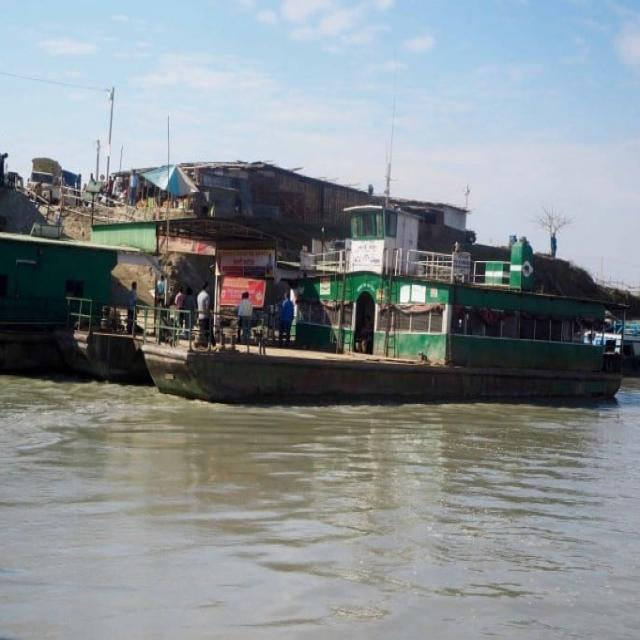houseboat: (134, 154, 632, 426)
